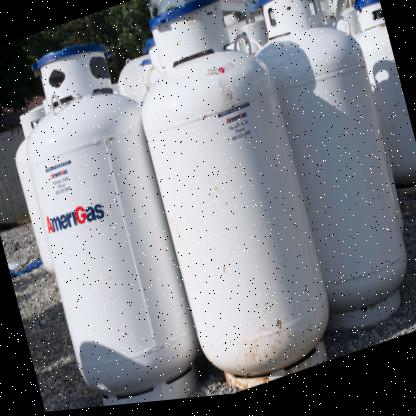gas-tank: (121, 0, 356, 406), (0, 15, 233, 415), (232, 0, 415, 355), (0, 94, 108, 291), (338, 0, 415, 250)
